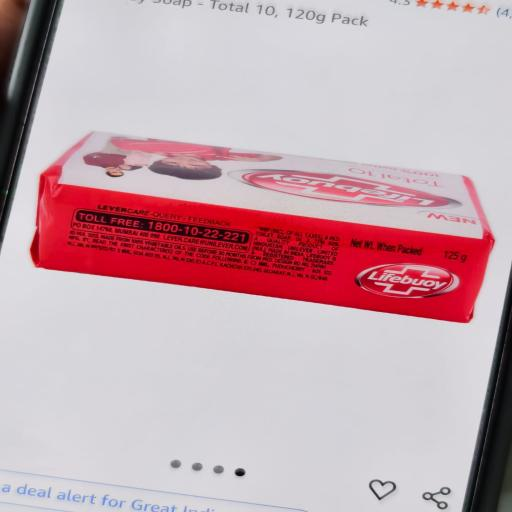lifebuoy: (32, 132, 494, 322)
